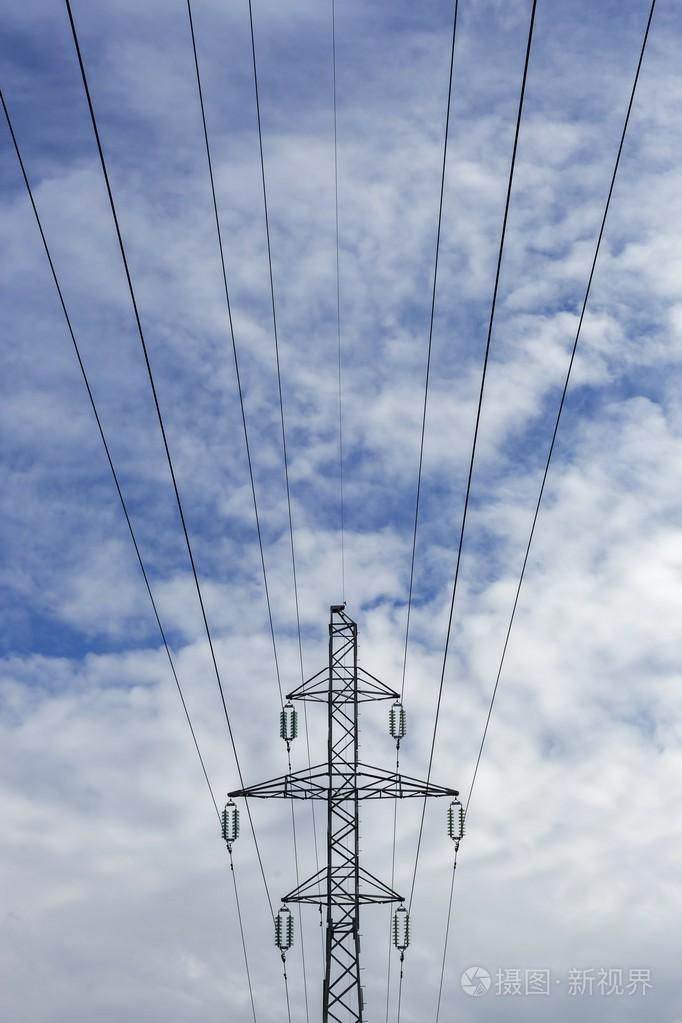power_tower: (193, 596, 469, 1010)
